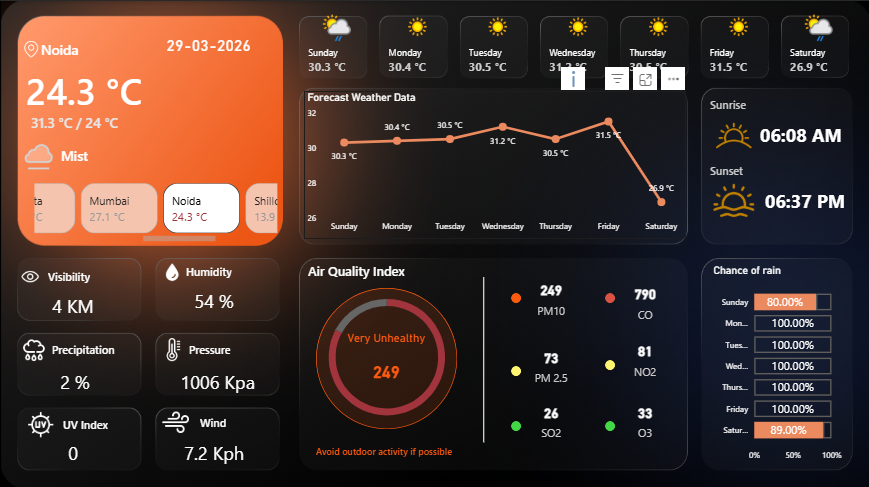

The page's visual inventory and layout, read from the dashboard file:
{"tool":"powerbi","page":{"name":"Page 1","canvas":[1280,720],"ordinal":0},"visuals":[{"type":"shape","box":[464.2,422.4,207.5,207.5],"z":0},{"type":"donutChart","fields":{"Y":["Sum(Current.current.air_quality.pm10)","_Measures.left_val_pm10"]},"box":[438.8,411.9,258.2,223.9],"z":1000},{"type":"advancedSlicerVisual","fields":{"Values":["locations.location.name"]},"box":[46.3,262.7,367.2,97],"z":2000},{"type":"shape","box":[38.8,88.1,216.4,82.1],"z":3000},{"type":"shape","box":[89.6,203,250.7,47.8],"z":4000},{"type":"shape","box":[60.2,52.9,160.2,35.3],"z":5000},{"type":"image","box":[30.9,58.8,29.4,23.5],"z":6000},{"type":"cardVisual","fields":{"Data":["Min(Current.current.condition.icon)"]},"box":[10.4,171.6,329.9,91],"z":7000},{"type":"image","box":[29.9,385.1,29.9,40.3],"z":8000},{"type":"image","box":[238.8,385.1,26.9,26.9],"z":9000},{"type":"shape","box":[273.1,377.6,86.6,40.3],"z":10000},{"type":"shape","box":[92.5,603,68.7,40.3],"z":11000},{"type":"shape","box":[277.6,489.6,76.1,46.3],"z":12000},{"type":"shape","box":[76.1,494,100,37.3],"z":13000},{"type":"shape","box":[294,600,68.7,40.3],"z":14000},{"type":"image","box":[29.9,494,40.3,38.8],"z":15000},{"type":"image","box":[228.4,495.5,53.7,34.3],"z":16000},{"type":"image","box":[235.8,598.5,46.3,41.8],"z":17000},{"type":"image","box":[34.3,603,52.2,40.3],"z":18000},{"type":"card","fields":{"Values":["_Measures.Humidity_curr"]},"box":[255.2,417.9,117.9,47.8],"z":19000},{"type":"card","fields":{"Values":["_Measures.wind_speed"]},"box":[255.2,640.3,117.9,47.8],"z":20000},{"type":"card","fields":{"Values":["_Measures.Pressure_curr"]},"box":[255.2,535.8,128.4,47.8],"z":21000},{"type":"card","fields":{"Values":["_Measures.visibility_curr"]},"box":[47.8,425.4,117.9,47.8],"z":22000},{"type":"card","fields":{"Values":["_Measures.preceptation_curr"]},"box":[50.7,535.8,117.9,47.8],"z":23000},{"type":"card","fields":{"Values":["Sum(Current.current.uv)"]},"box":[47.8,640.3,117.9,47.8],"z":24000},{"type":"cardVisual","fields":{"Data":["Min(Current.current.last_updated)"]},"box":[228.4,31.3,176.1,65.7],"z":25000},{"type":"advancedSlicerVisual","fields":{"Values":["Forecast_day.Day_Name"]},"box":[434.3,7.5,831.3,113.4],"z":26000},{"type":"lineChart","title":"Forecast Weather Data","fields":{"Category":["Forecast_day.Day_Name"],"Y":["Sum(Forecast_day.forecast.forecastday.day.avgtemp_c)"]},"box":[446.3,132.8,561.2,216.4],"z":27000},{"type":"shape","box":[1043.3,132.8,161.2,40.3],"z":28000},{"type":"shape","box":[1116.4,164.2,149.3,62.7],"z":29000},{"type":"shape","box":[1123.9,262.7,129.9,59.7],"z":30000},{"type":"shape","box":[1043.3,229.9,161.2,40.3],"z":31000},{"type":"image","box":[1043.3,161.2,70.1,71.6],"z":32000},{"type":"image","box":[1043.3,262.7,70.1,59.7],"z":33000},{"type":"hundredPercentStackedBarChart","title":"Chance of rain ","fields":{"Category":["Forecast_day.Day_Name"],"Y":["Sum(Forecast_day.forecast.forecastday.day.daily_chance_of_rain)","Current.left_value_rain"]},"box":[1043.3,386.6,198.5,298.5],"z":34000},{"type":"card","fields":{"Values":["Sum(Current.current.air_quality.co)"]},"box":[889.6,411.9,117.9,61.2],"z":35000},{"type":"card","fields":{"Values":["Sum(Current.current.air_quality.no2)"]},"box":[889.6,494,117.9,64.2],"z":36000},{"type":"card","fields":{"Values":["Sum(Current.current.air_quality.o3)"]},"box":[889.6,583.6,117.9,65.7],"z":37000},{"type":"card","fields":{"Values":["Sum(Current.current.air_quality.so2)"]},"box":[750.7,585.1,117.9,62.7],"z":38000},{"type":"card","fields":{"Values":["Sum(Current.current.air_quality.pm2_5)"]},"box":[750.7,506,117.9,59.7],"z":39000},{"type":"card","fields":{"Values":["Sum(Current.current.air_quality.pm10)"]},"box":[750.7,397,117.9,77.6],"z":40000},{"type":"shape","box":[70.1,385.1,68.7,40.3],"z":41000},{"type":"shape","box":[452.2,373.1,194,46.3],"z":42000},{"type":"shape","box":[750.7,428.4,14.9,14.9],"z":43000},{"type":"shape","box":[750.7,535.8,14.9,14.9],"z":44000},{"type":"shape","box":[750.7,616.4,14.9,14.9],"z":45000},{"type":"shape","box":[889.6,428.4,14.9,14.9],"z":46000},{"type":"shape","box":[889.6,526.9,14.9,14.9],"z":47000},{"type":"shape","box":[889.6,616.4,14.9,14.9],"z":48000},{"type":"shape","box":[695.5,406,31.3,243.3],"z":49000},{"type":"card","fields":{"Values":["Sum(Current.current.air_quality.pm10)"]},"box":[495.5,485.1,144.8,101.5],"z":50000},{"type":"shape","box":[464.2,640.3,259.7,40.3],"z":50001},{"type":"shape","box":[46.3,159.7,177.6,35.8],"z":50002}]}

Visuals, with their boxes in screenshot pixels (x1, y1, x2, y2), scaled from the page's 1280x720 canvas onto the 869x487 screenshot:
shape: 315 286 456 426
donutChart - Sum(Current.current.air_quality.pm10) x _Measures.left_val_pm10: 298 279 473 430
advancedSlicerVisual - locations.location.name: 31 178 281 243
shape: 26 60 173 115
shape: 61 137 231 170
shape: 41 36 150 60
image: 21 40 41 56
cardVisual - Min(Current.current.condition.icon): 7 116 231 178
image: 20 260 41 288
image: 162 260 180 279
shape: 185 255 244 283
shape: 63 408 109 435
shape: 188 331 240 362
shape: 52 334 120 359
shape: 200 406 246 433
image: 20 334 48 360
image: 155 335 192 358
image: 160 405 192 433
image: 23 408 59 435
card - _Measures.Humidity_curr: 173 283 253 315
card - _Measures.wind_speed: 173 433 253 465
card - _Measures.Pressure_curr: 173 362 260 395
card - _Measures.visibility_curr: 32 288 112 320
card - _Measures.preceptation_curr: 34 362 114 395
card - Sum(Current.current.uv): 32 433 112 465
cardVisual - Min(Current.current.last_updated): 155 21 275 66
advancedSlicerVisual - Forecast_day.Day_Name: 295 5 859 82
"Forecast Weather Data" lineChart: 303 90 684 236
shape: 708 90 818 117
shape: 758 111 859 153
shape: 763 178 851 218
shape: 708 156 818 183
image: 708 109 756 157
image: 708 178 756 218
"Chance of rain " hundredPercentStackedBarChart: 708 261 843 463
card - Sum(Current.current.air_quality.co): 604 279 684 320
card - Sum(Current.current.air_quality.no2): 604 334 684 378
card - Sum(Current.current.air_quality.o3): 604 395 684 439
card - Sum(Current.current.air_quality.so2): 510 396 590 438
card - Sum(Current.current.air_quality.pm2_5): 510 342 590 383
card - Sum(Current.current.air_quality.pm10): 510 269 590 321
shape: 48 260 94 288
shape: 307 252 439 284
shape: 510 290 520 300
shape: 510 362 520 372
shape: 510 417 520 427
shape: 604 290 614 300
shape: 604 356 614 366
shape: 604 417 614 427
shape: 472 275 493 439
card - Sum(Current.current.air_quality.pm10): 336 328 435 397
shape: 315 433 491 460
shape: 31 108 152 132
